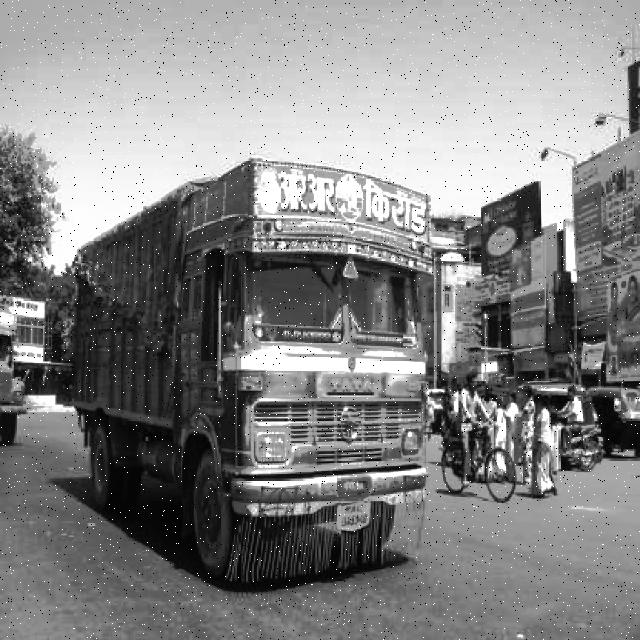HCV: (63, 223, 428, 572)
